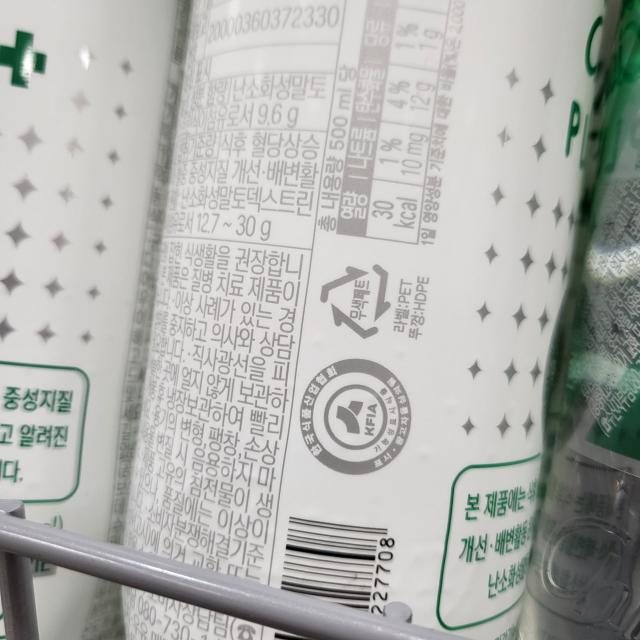ColorlessPET: (314, 256, 392, 344)
